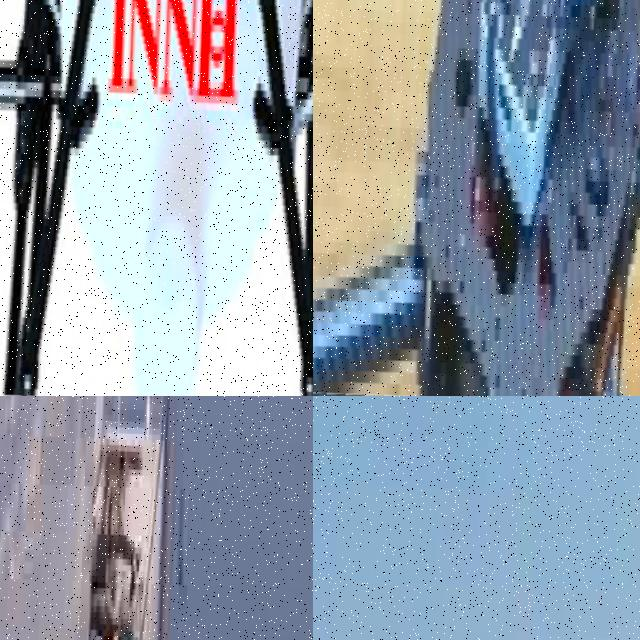drone: (313, 0, 640, 396), (0, 0, 313, 396)
